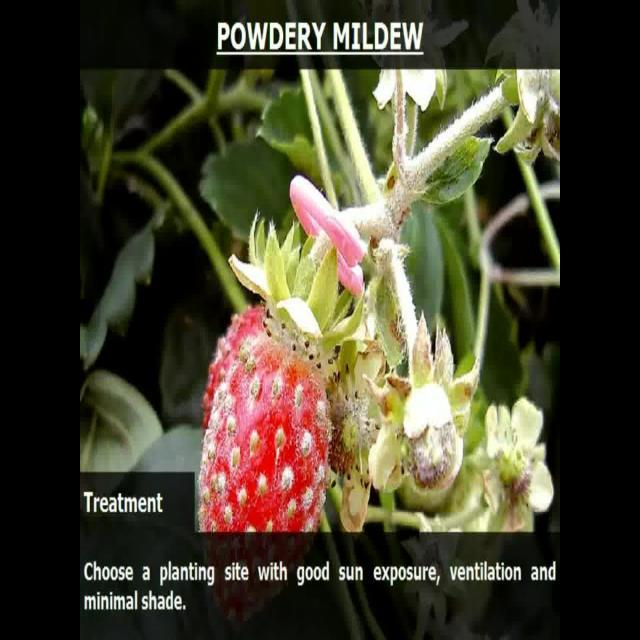Oído: (223, 342, 324, 504)
